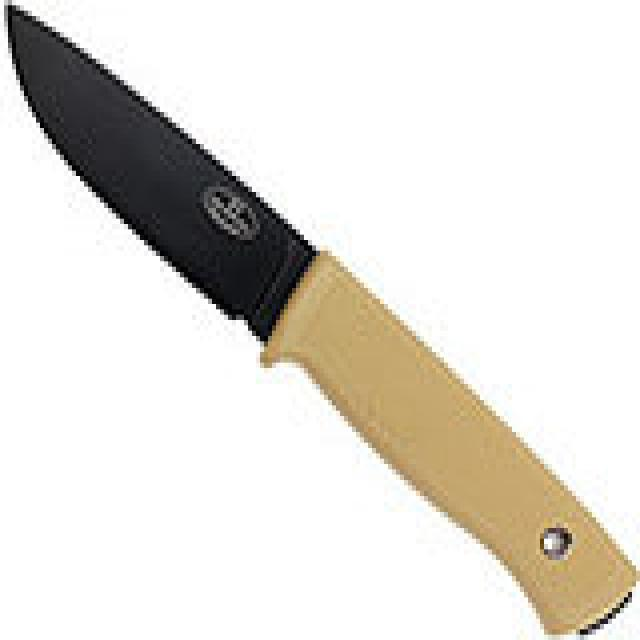Knife: (6, 1, 639, 618)
